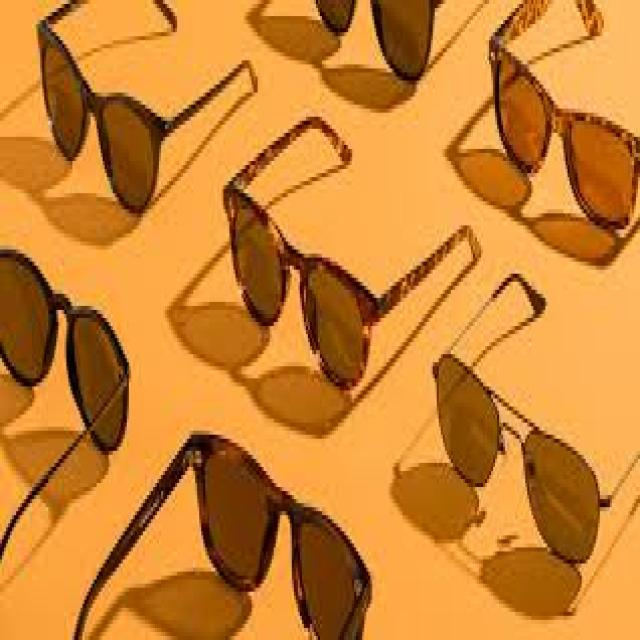sunglasses: (220, 161, 382, 394)
